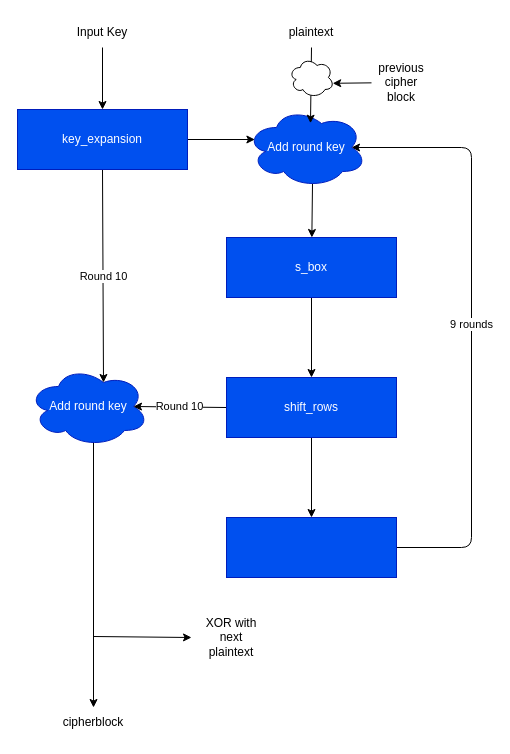
The diagram is 510 pixels wide and 754 high, and some of its shapes have lost their labels. The box of each missing label's shape, as (x1, y1, x2, y2) in pixels:
mix_columns: (226, 516, 396, 578)
XOR: (288, 56, 334, 98)
